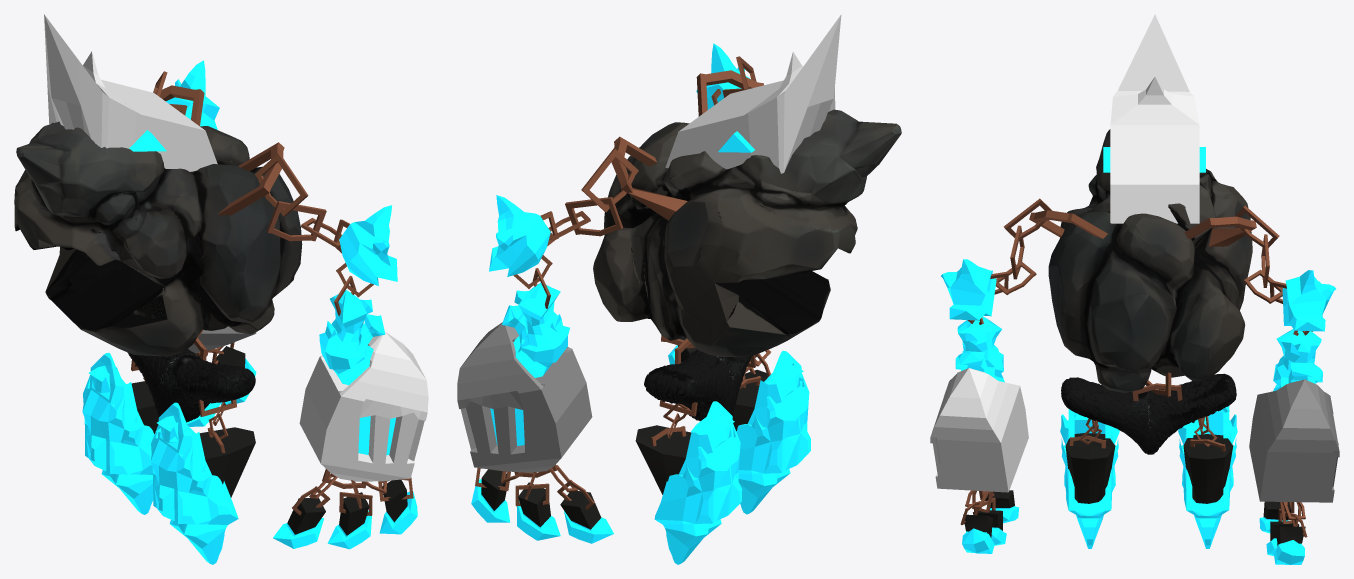
The model's file is GolemNoMergeBon2.fbx.
3 renders of one model, left to right at view 1: azimuth 30°, elevation 25°; view 2: azimuth 150°, elevation 25°; view 3: azimuth 270°, elevation 25°, orthographic. The views are drawn at different scales.
Visible parts, largest first — view 1: torse, Cube.001, Cube.010, Cube.003, Cube.004, Cube.015, Cube.005, Cube.017, Cube.018, Cube.016, Cube.020, Cube.009 (+3 smaller); view 2: torse, Cube.021, Cube.010, Cube.004, Cube.003, Cube.020, Cube.008, Cube.005, Cube.006, Cube.009, Cube.015, Cube.016 (+1 smaller); view 3: torse, Cube.010, Cube.001, Cube.021, Cube.005, Cube.004, Cube.003, Cube.015, Cube.020, Cube.016, Cube.009, Cube.017 (+4 smaller).
Boxes of the visible parts, x1,y1,x2,y2 form: torse: [14, 121, 302, 356]; Cube.001: [299, 332, 428, 481]; Cube.010: [44, 14, 217, 171]; Cube.003: [150, 402, 255, 564]; Cube.004: [82, 352, 158, 514]; Cube.015: [218, 142, 413, 515]; Cube.005: [127, 348, 255, 422]; Cube.017: [273, 479, 417, 549]; Cube.018: [319, 290, 385, 385]; Cube.016: [339, 205, 397, 285]; Cube.020: [153, 71, 234, 364]; Cube.009: [166, 60, 219, 129]; torse: [593, 109, 901, 356]; Cube.021: [457, 322, 592, 472]; Cube.010: [665, 14, 841, 173]; Cube.004: [635, 401, 742, 564]; Cube.003: [732, 350, 810, 514]; Cube.020: [475, 136, 657, 509]; Cube.008: [471, 469, 613, 543]; Cube.005: [644, 349, 752, 421]; Cube.006: [502, 282, 569, 377]; Cube.009: [489, 195, 550, 276]; Cube.015: [696, 56, 770, 376]; Cube.016: [696, 43, 749, 109]; torse: [1048, 129, 1252, 392]; Cube.010: [1110, 14, 1199, 223]; Cube.001: [930, 368, 1028, 492]; Cube.021: [1249, 379, 1339, 502]; Cube.005: [1061, 373, 1236, 454]; Cube.004: [1178, 406, 1237, 548]; Cube.003: [1060, 409, 1119, 548]; Cube.015: [960, 198, 1108, 524]; Cube.020: [1184, 205, 1312, 537]; Cube.016: [941, 259, 996, 320]; Cube.009: [1282, 270, 1335, 331]; Cube.017: [962, 490, 1019, 553].
Size of the model in its own units: 479 by 772 by 597.
